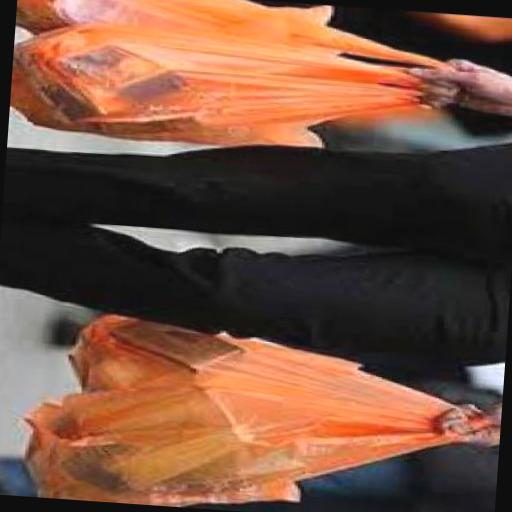plastic: (12, 16, 444, 160), (22, 375, 471, 512), (70, 308, 470, 418), (17, 0, 462, 63)
